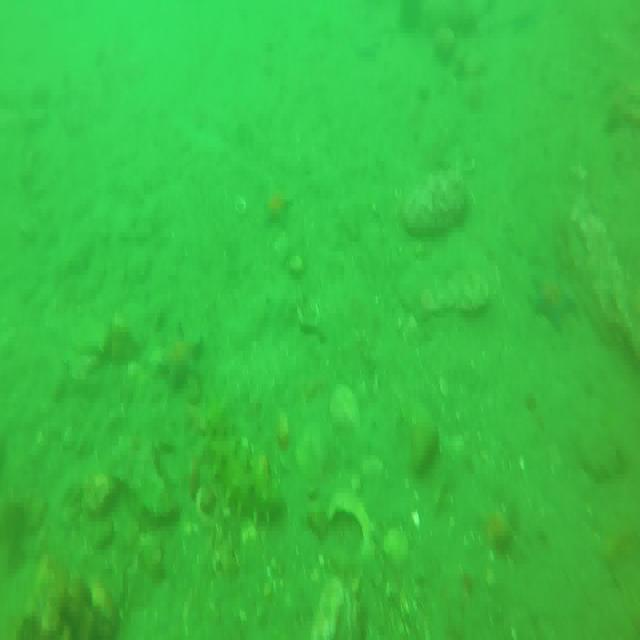holothurian: (205, 402, 284, 518)
starfish: (479, 496, 523, 564), (160, 324, 207, 383), (532, 271, 574, 330), (265, 188, 294, 228)
